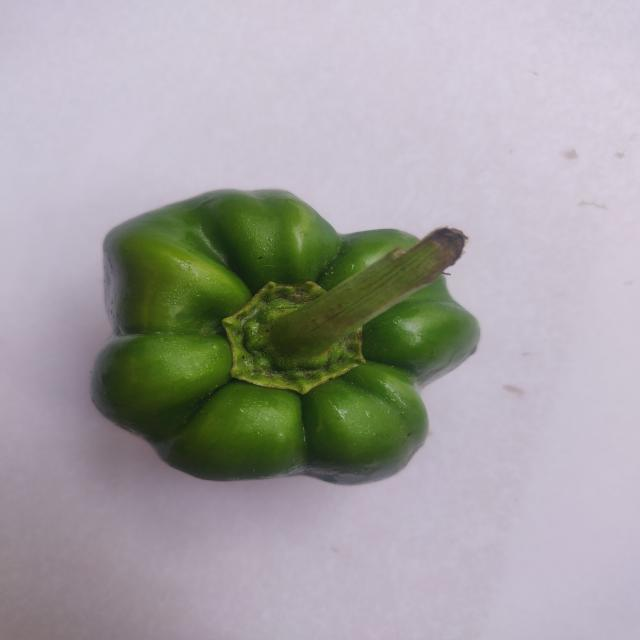Capsicum: (78, 174, 508, 508)
